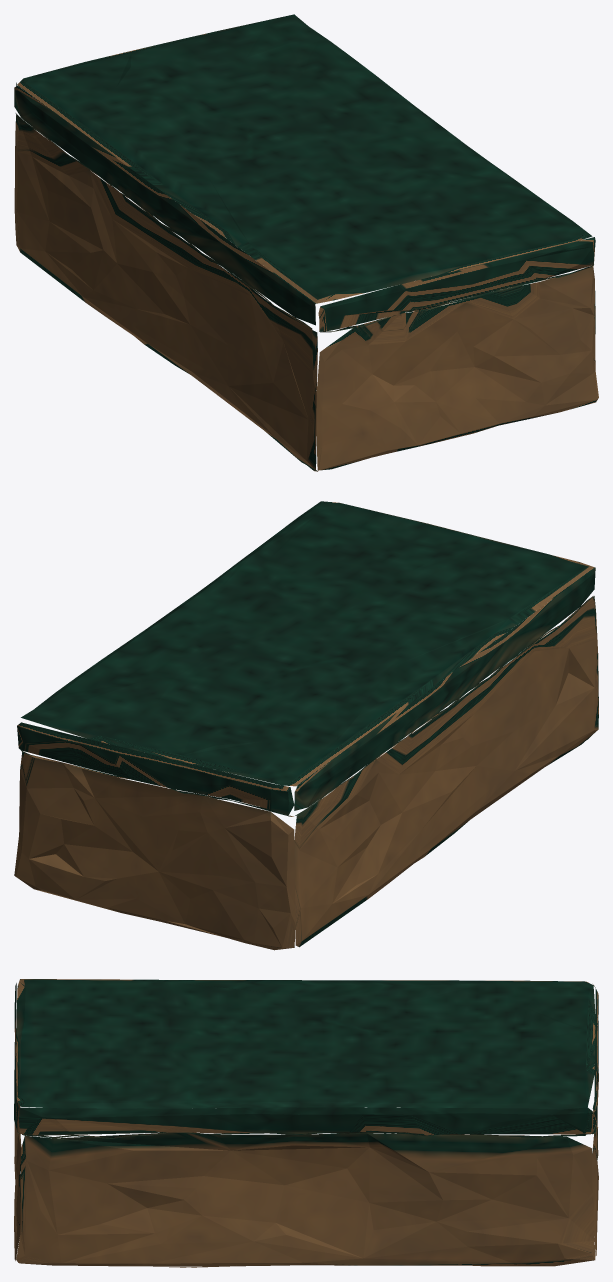
The model's file is cleaning_sponge_h01.glb.
The picture shows the model from 3 angles, top to bottom: view 1: azimuth 30°, elevation 25°; view 2: azimuth 150°, elevation 25°; view 3: azimuth 270°, elevation 25°; orthographic projection. The views are drawn at different scales.
Visible parts, largest first — view 1: geometry_0; view 2: geometry_0; view 3: geometry_0.
Boxes of the visible parts, bbox=[...] form: geometry_0: bbox=[14, 14, 598, 471]; geometry_0: bbox=[14, 501, 598, 950]; geometry_0: bbox=[14, 979, 598, 1267].
Bounding box in the file's own units: 0.2276 × 0.1331 × 0.42.
Materials: 1 (1 with a texture image).
